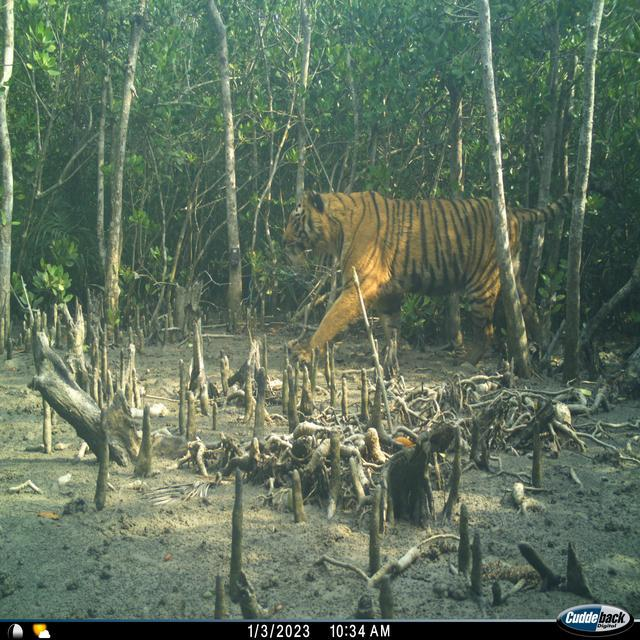tiger: (280, 187, 572, 378), (174, 419, 458, 528), (379, 422, 456, 527), (510, 481, 545, 516)
